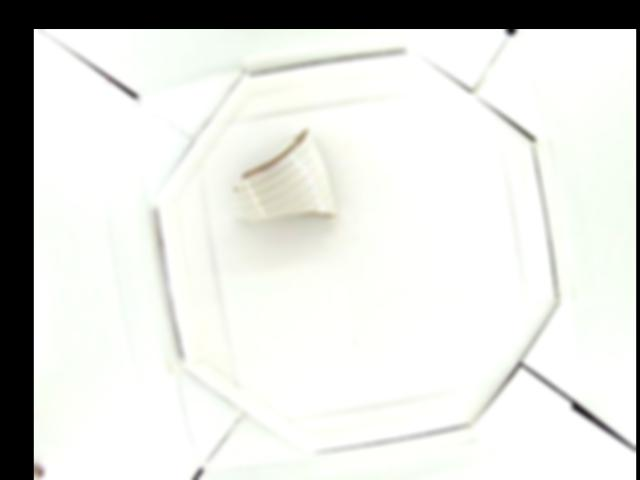China: (230, 128, 341, 221)
